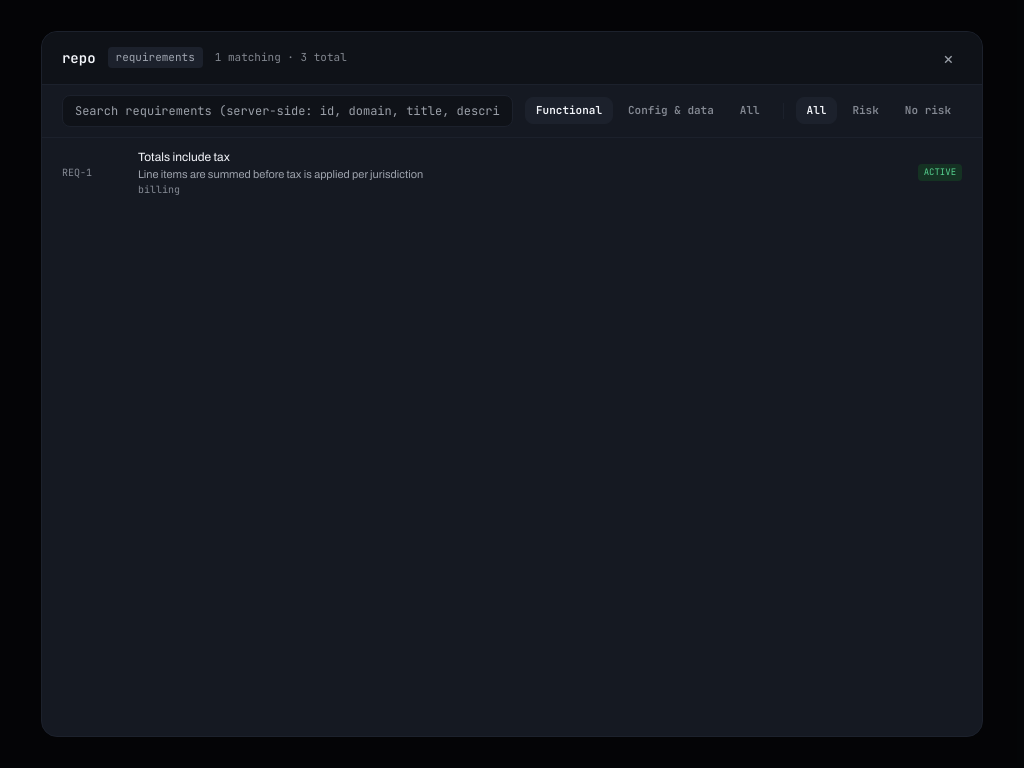
RequirementsModal › save sends only the changed fields
Click the text "Totals include tax" at (184, 157), box [138,150,230,164]
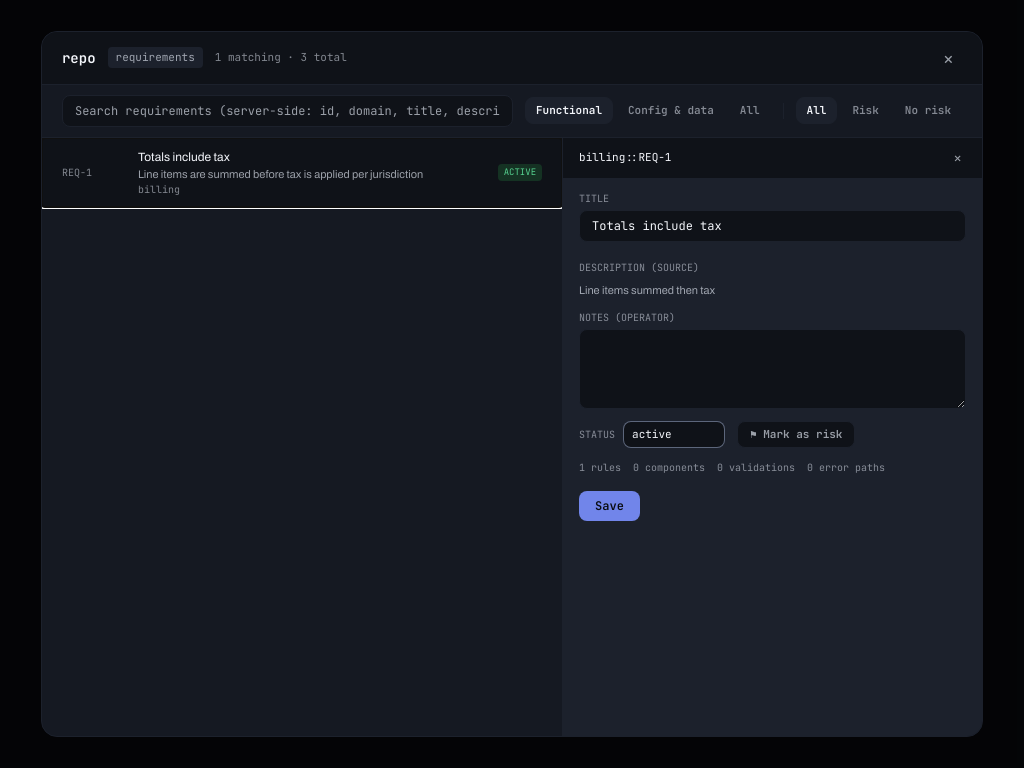
Type "checked" into the text box labelled "Notes (operator)" at (772, 369), box [579,329,966,409]
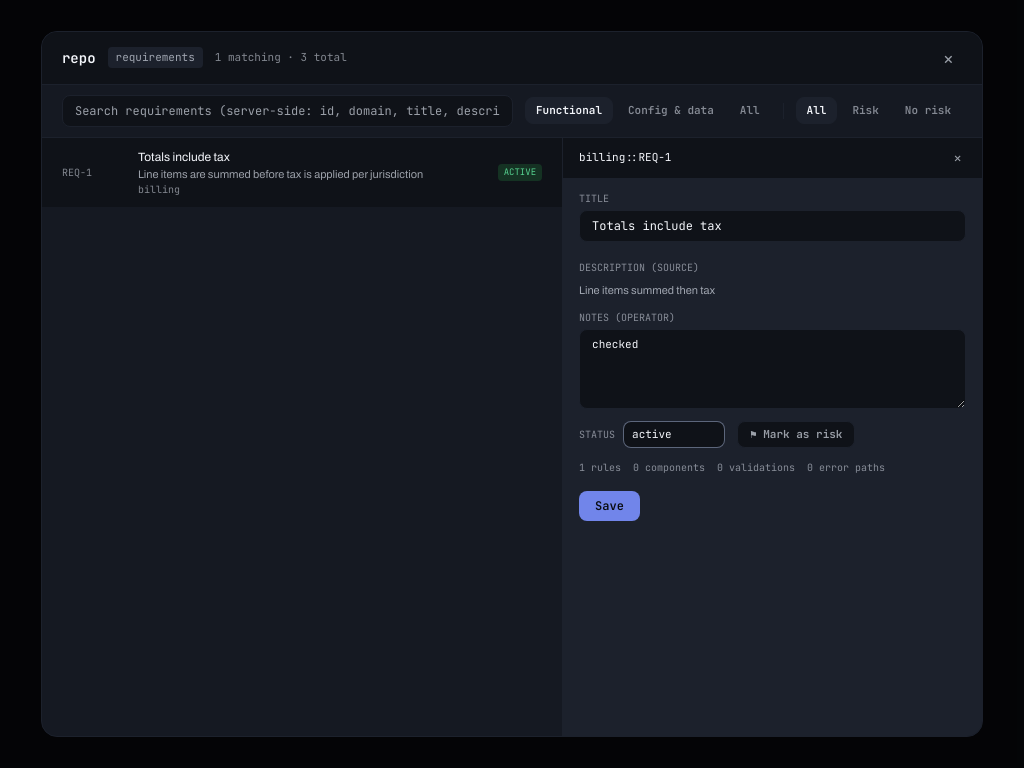
Click the button "Save" at (609, 506), box [579,491,640,521]
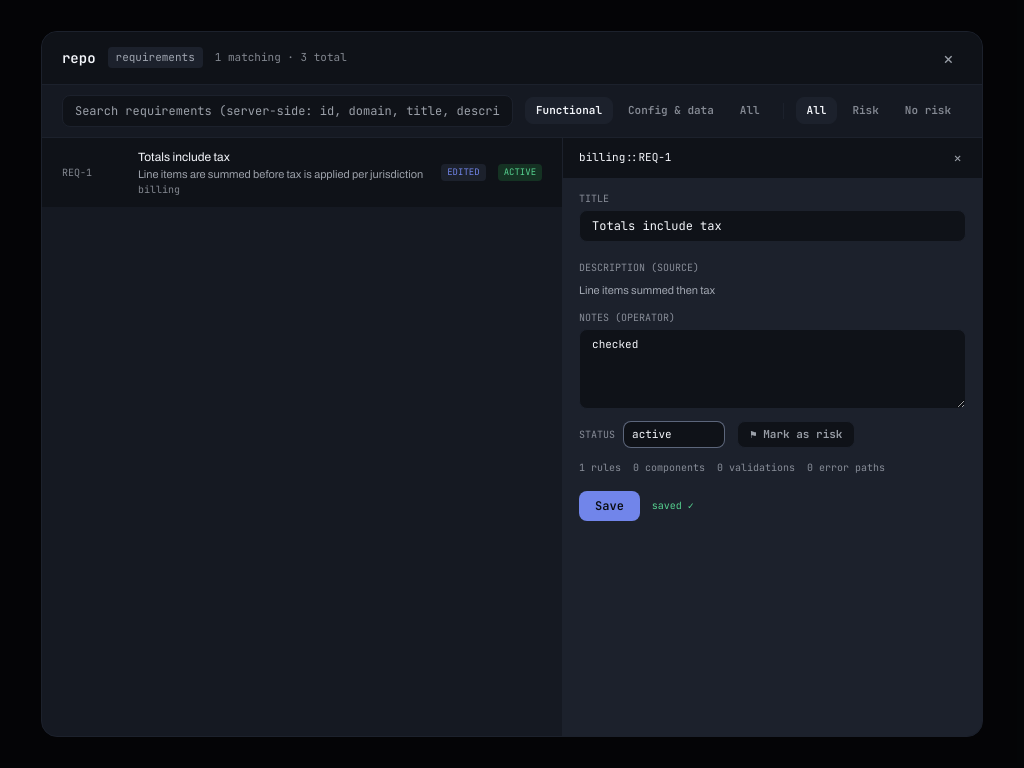
Expected: the text "saved ✓" is shown, [652,498,694,513]
